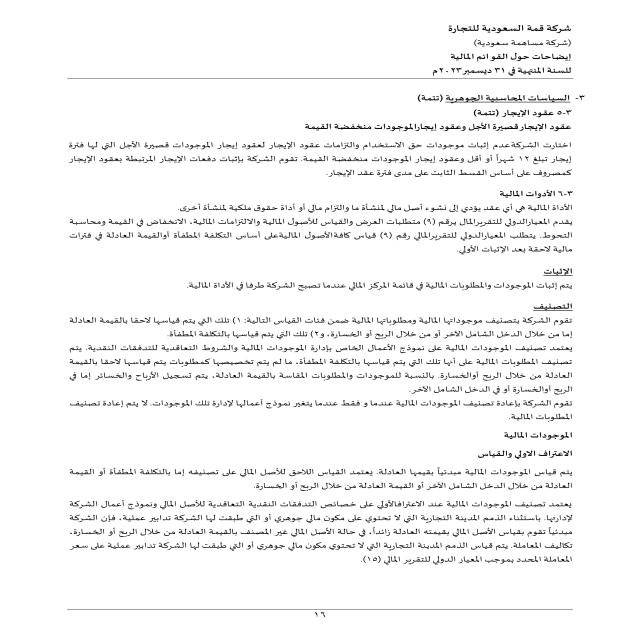notes: (445, 49, 577, 64)
text: (41, 88, 595, 566)
